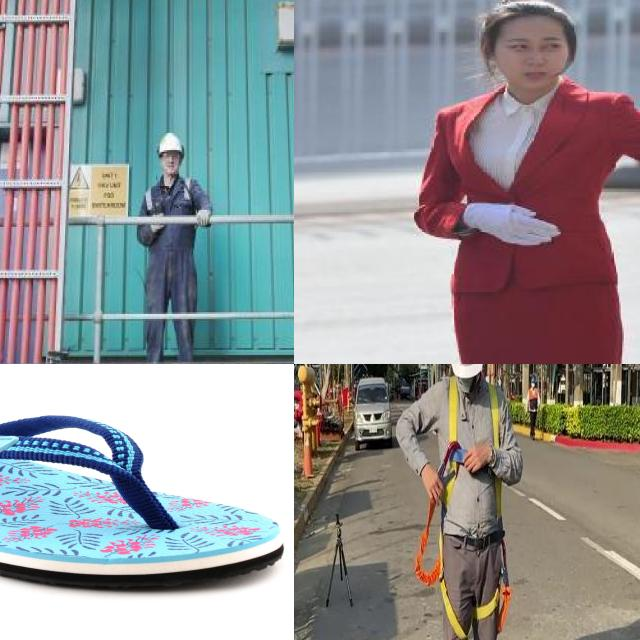Harness: (415, 376, 468, 640)
No_Glasses: (500, 34, 567, 55)
Sandals: (0, 409, 288, 592)
face_nomask: (491, 16, 570, 94), (160, 149, 181, 173)
hand_glove: (467, 200, 562, 247), (193, 207, 212, 227)
head_helmet: (155, 130, 185, 158)
head_nohelmet: (485, 0, 577, 35)
person: (423, 0, 640, 364), (135, 128, 207, 364)
